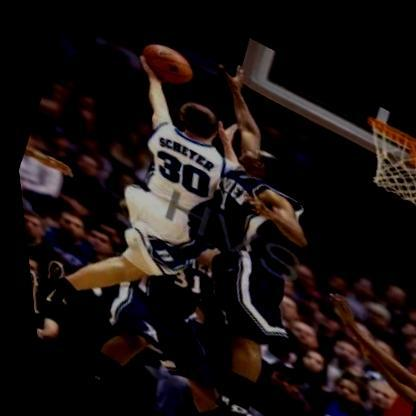basketball: (127, 24, 206, 95)
